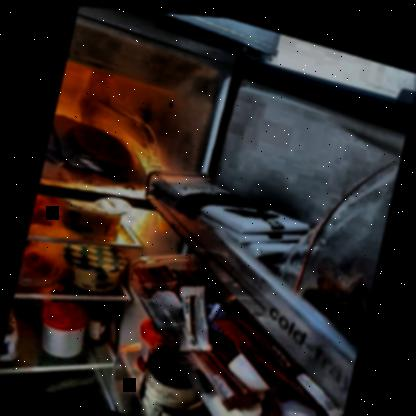chocolate: (164, 173, 300, 244)
dates: (304, 244, 375, 319)
salami: (64, 119, 138, 171)
tomato: (23, 247, 56, 277)
yoghurt: (57, 233, 130, 296), (60, 195, 124, 242)
